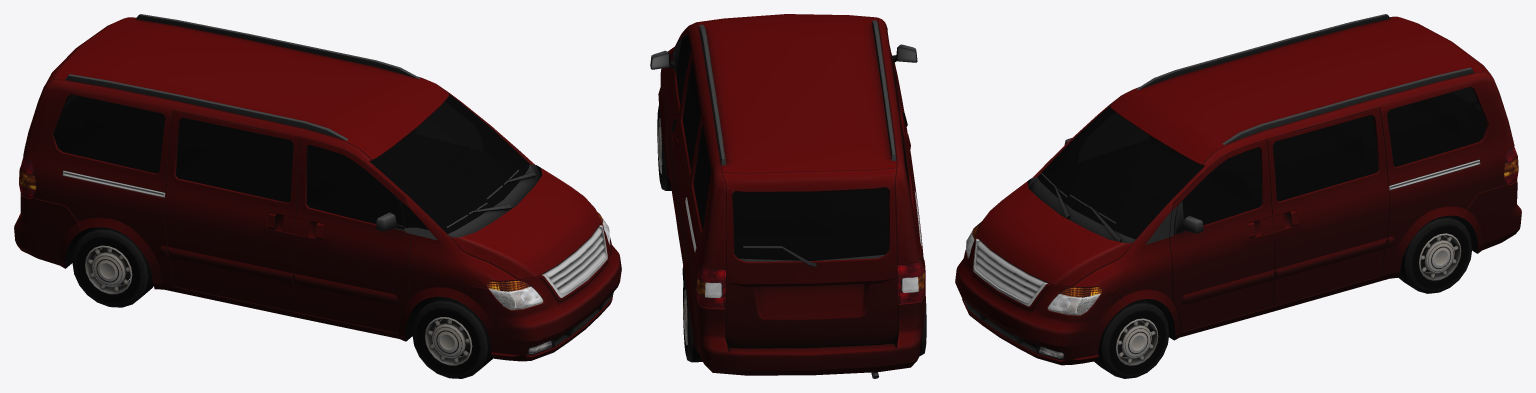
Rendered from minivan.glb.
3 renders of one model, left to right at view 1: azimuth 30°, elevation 25°; view 2: azimuth 150°, elevation 25°; view 3: azimuth 270°, elevation 25°, orthographic. The views are drawn at different scales.
Visible parts, largest first — view 1: minivan body, Wheel_D002, Wheel_D003; view 2: minivan body, Wheel_D001, Wheel_D; view 3: minivan body, Wheel_D, Wheel_D001.
Part boxes in pixels (left/top/right/bottom): minivan body: left=14, top=14, right=621, bottom=361; Wheel_D002: left=412, top=296, right=492, bottom=378; Wheel_D003: left=72, top=227, right=153, bottom=307; minivan body: left=650, top=14, right=925, bottom=378; Wheel_D001: left=683, top=275, right=702, bottom=362; Wheel_D: left=657, top=104, right=671, bottom=190; minivan body: left=955, top=14, right=1521, bottom=365; Wheel_D: left=1094, top=299, right=1169, bottom=378; Wheel_D001: left=1398, top=215, right=1472, bottom=293.
Bounding box in the file's own units: 3.62 × 1.76 × 4.43.
Materials: 4 (3 with a texture image).
